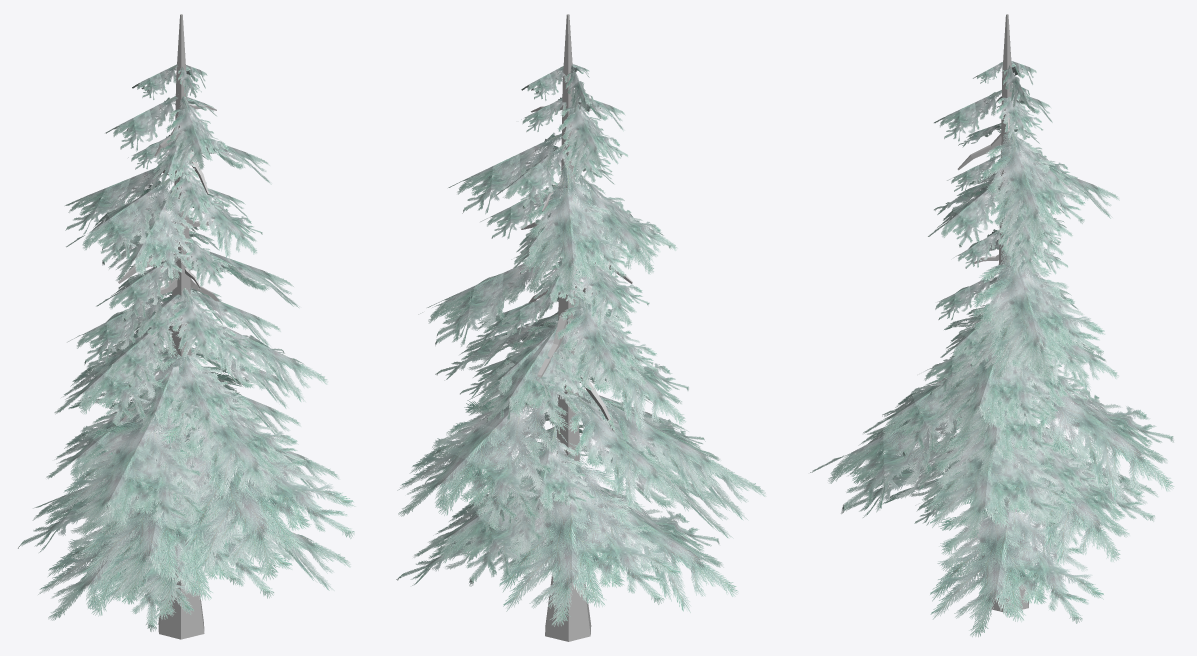
Rendered from arbre_propre.fbx.
The picture shows the model from 3 angles, left to right: view 1: azimuth 30°, elevation 25°; view 2: azimuth 150°, elevation 25°; view 3: azimuth 270°, elevation 25°; orthographic projection. The views are drawn at different scales.
Parts seen in each view (by area): view 1: leaves_neige.029, leaves_neige.011, leaves_neige.003, leaves_neige.025, leaves_neige.006, leaves_neige.004, leaves_neige.041, leaves_neige.027, Cube, leaves_neige.051, leaves_neige.050, leaves_neige.037 (+27 smaller); view 2: leaves_neige.017, leaves_neige.010, leaves_neige.052, leaves_neige.006, leaves_neige.026, leaves_neige.014, leaves_neige.022, leaves_neige.011, leaves_neige.038, Cube, leaves_neige.050, leaves_neige.016 (+21 smaller); view 3: leaves_neige.001, leaves_neige.018, leaves_neige.010, leaves_neige.036, leaves_neige.043, leaves_neige.035, leaves_neige.014, leaves_neige.029, leaves_neige.021, leaves_neige.025, leaves_neige.028, leaves_neige.005 (+21 smaller).
Boxes of the visible parts, <box> form: leaves_neige.029: <box>152,417,355,580</box>; leaves_neige.011: <box>59,406,204,534</box>; leaves_neige.003: <box>82,415,258,597</box>; leaves_neige.025: <box>174,392,307,500</box>; leaves_neige.006: <box>38,505,199,631</box>; leaves_neige.004: <box>101,468,292,620</box>; leaves_neige.041: <box>54,324,178,429</box>; leaves_neige.027: <box>155,353,251,440</box>; Cube: <box>158,14,204,639</box>; leaves_neige.051: <box>108,185,194,282</box>; leaves_neige.050: <box>66,173,176,265</box>; leaves_neige.037: <box>168,288,236,361</box>; leaves_neige.017: <box>499,451,680,626</box>; leaves_neige.010: <box>397,395,568,534</box>; leaves_neige.052: <box>526,165,633,293</box>; leaves_neige.006: <box>578,478,738,612</box>; leaves_neige.026: <box>566,389,691,508</box>; leaves_neige.014: <box>413,450,576,586</box>; leaves_neige.022: <box>556,289,658,394</box>; leaves_neige.011: <box>580,388,740,501</box>; leaves_neige.038: <box>478,321,583,426</box>; Cube: <box>545,14,591,641</box>; leaves_neige.050: <box>572,170,671,276</box>; leaves_neige.016: <box>507,427,595,517</box>; leaves_neige.001: <box>930,466,1103,637</box>; leaves_neige.018: <box>928,422,1074,541</box>; leaves_neige.010: <box>1031,383,1174,503</box>; leaves_neige.036: <box>975,245,1100,373</box>; leaves_neige.043: <box>980,130,1085,243</box>; leaves_neige.035: <box>937,325,1057,435</box>; leaves_neige.014: <box>1002,435,1155,565</box>; leaves_neige.029: <box>810,394,977,513</box>; leaves_neige.021: <box>972,244,1105,380</box>; leaves_neige.025: <box>863,363,968,456</box>; leaves_neige.028: <box>950,375,1067,473</box>; leaves_neige.005: <box>1011,435,1102,512</box>.
Size of the model in its own units: 2712 by 5047 by 2966.
